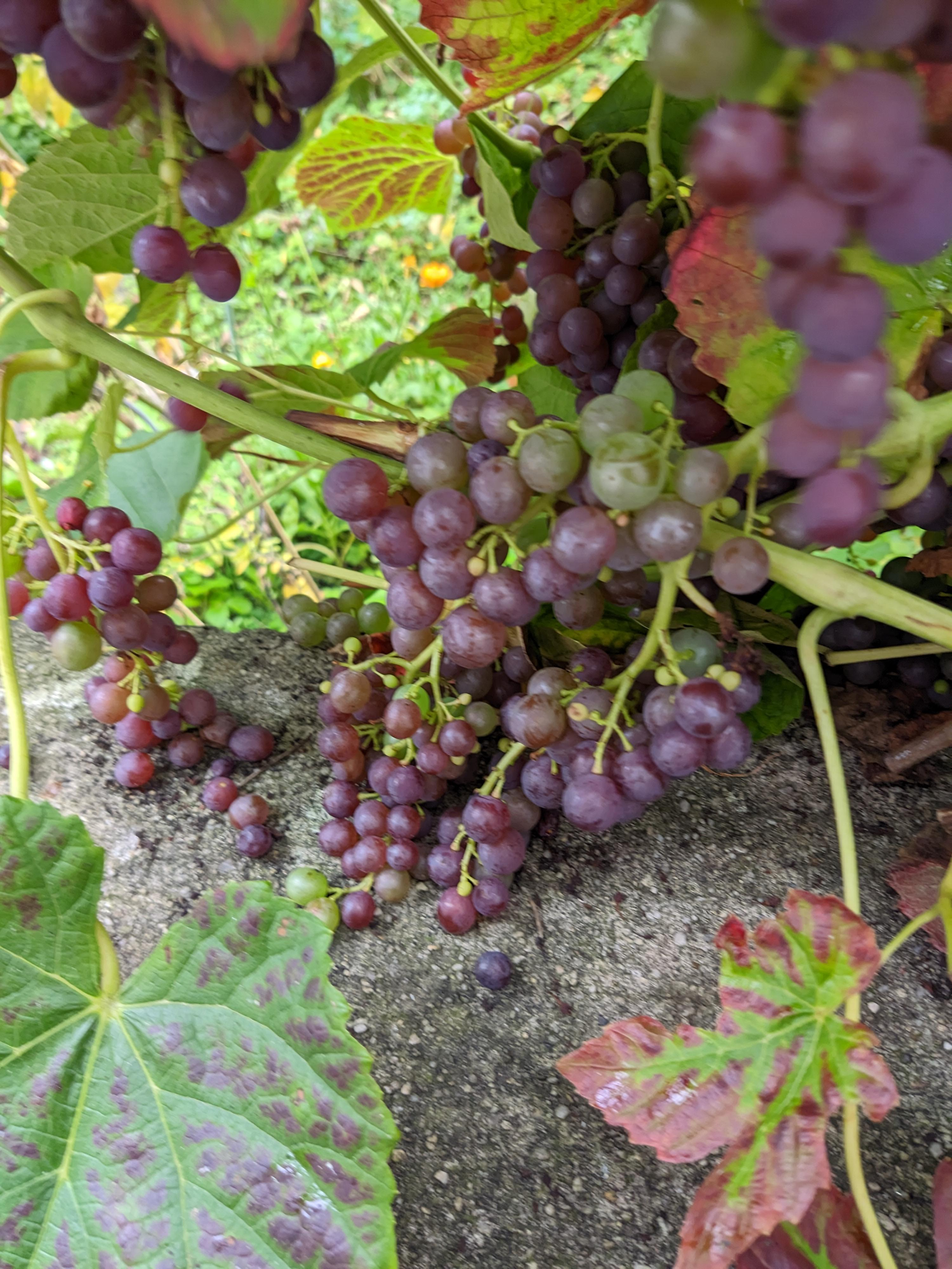Grape Unripe: (645, 0, 952, 551), (0, 494, 287, 863), (428, 627, 764, 937), (0, 0, 337, 306), (329, 375, 682, 621), (436, 98, 671, 381), (311, 634, 496, 934)
